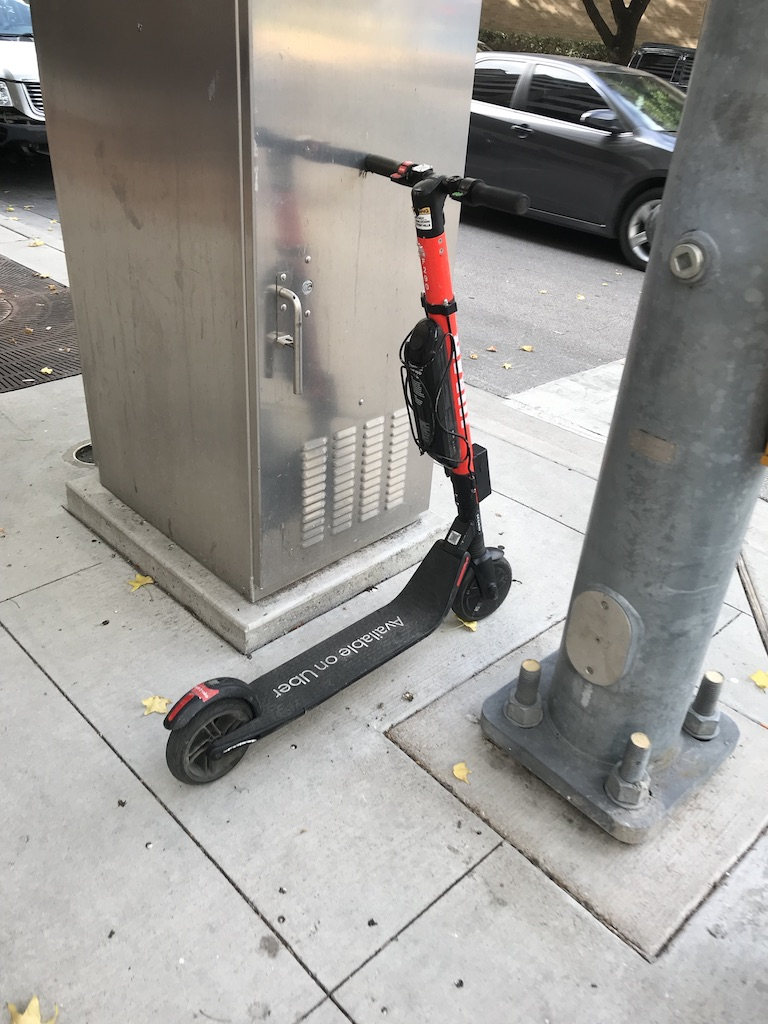scooter: (161, 152, 533, 788)
